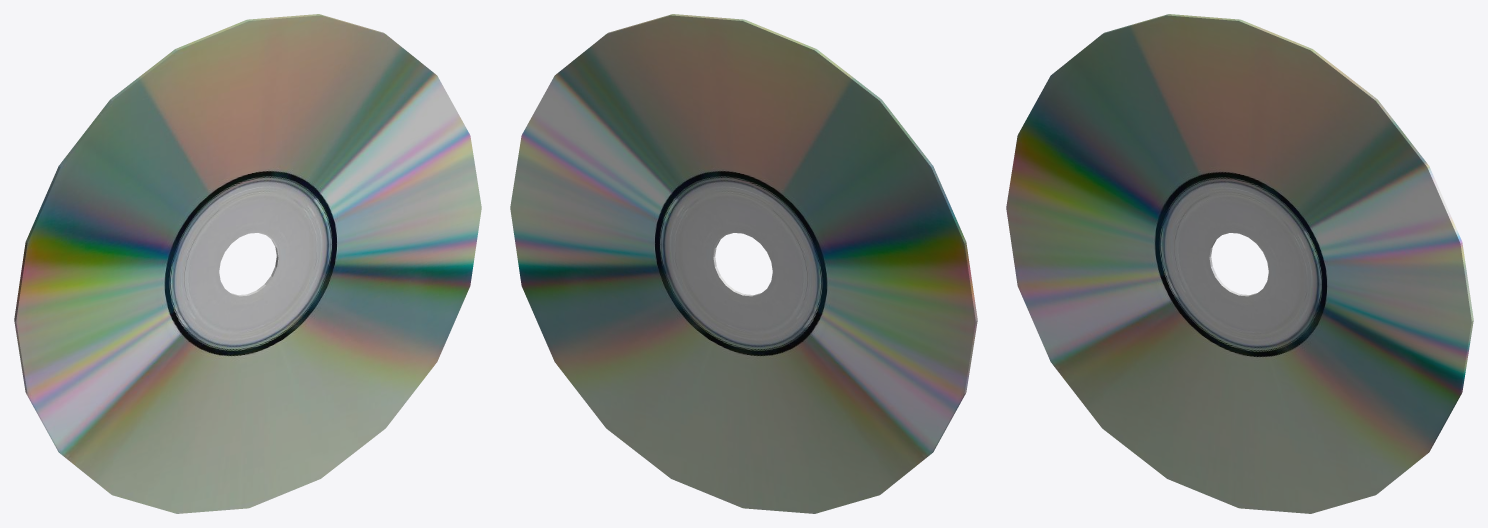
3 views of the same model, side by side, from view 1: azimuth 30°, elevation 25°; view 2: azimuth 150°, elevation 25°; view 3: azimuth 330°, elevation 25° (orthographic).
Parts seen in each view (by area): view 1: Node; view 2: Node; view 3: Node.
Part boxes in pixels (x1,y1,x2,y2): Node: [14, 14, 481, 513]; Node: [510, 14, 977, 513]; Node: [1006, 14, 1473, 513].
Size of the model in its own units: 6.14 by 6.14 by 0.045.
1 material, 1 textured.
